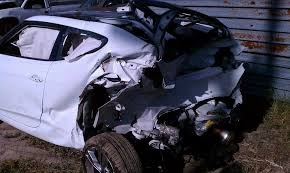Smashed: (87, 26, 247, 146)
